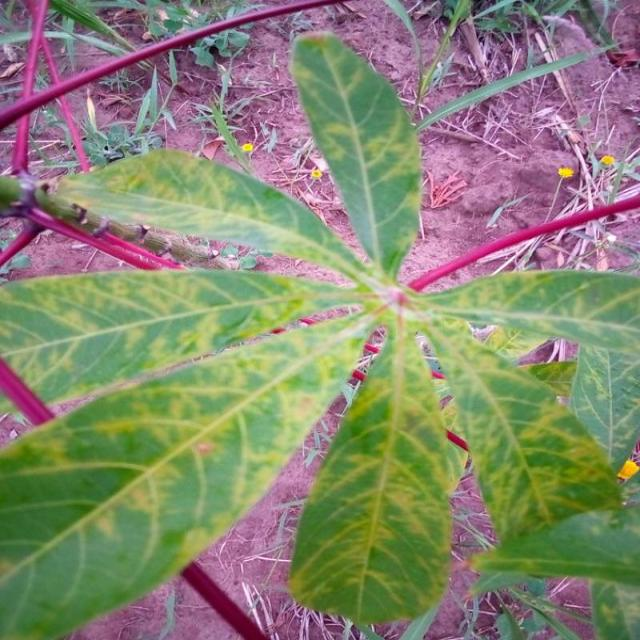cassava leaf: (0, 28, 638, 637), (0, 267, 365, 638), (286, 324, 456, 627), (288, 29, 422, 279)
